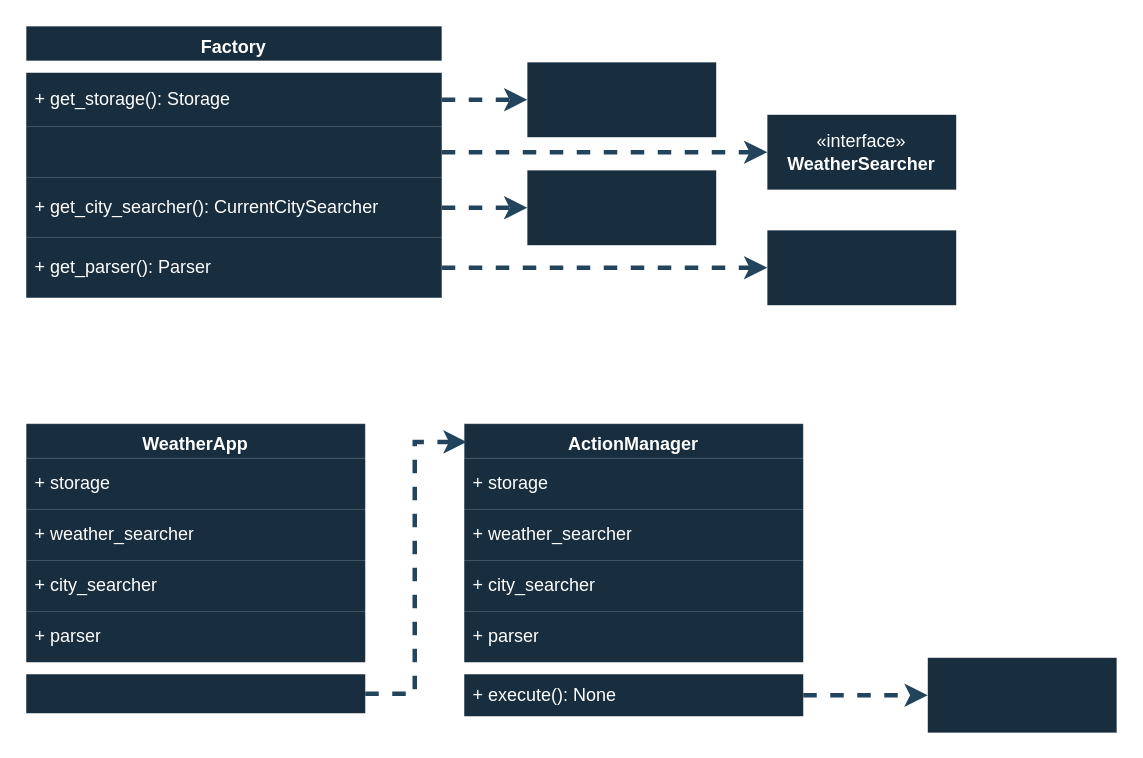
The diagram is 1143 pixels wide and 758 high, and some of its shapes have lost their labels. Here are the shapes that lost their labels. From the top down, the centre of each, then its label:
At point 621,99: "«interface» Storage".
At point 233,151: "+ get_weather_searcher(): WeatherSearcher".
At point 621,207: "«interface» CurrentCitySearcher".
At point 861,267: "«interface» Parser".
At point 195,693: "+ start(): None".
At point 1021,694: "«interface» Action".
